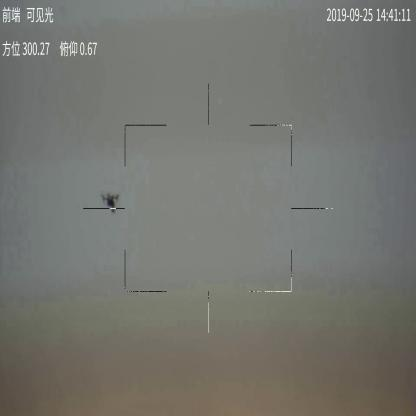uav: (100, 190, 122, 214)
